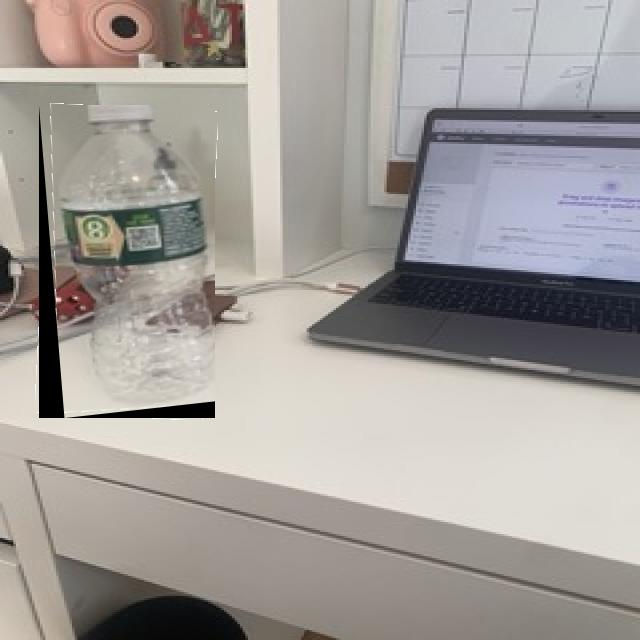water_bottle: (39, 105, 215, 418)
